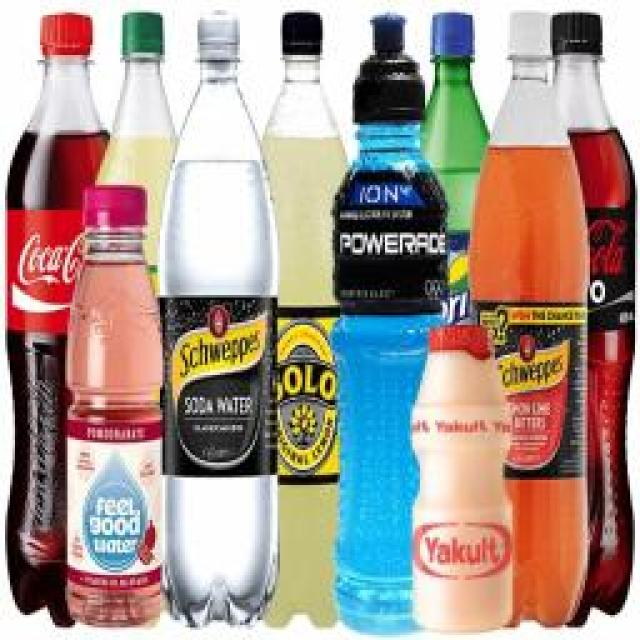bottle: (12, 14, 125, 629), (167, 10, 280, 622), (334, 53, 454, 627), (475, 13, 585, 625), (65, 187, 167, 620), (410, 325, 517, 613)
